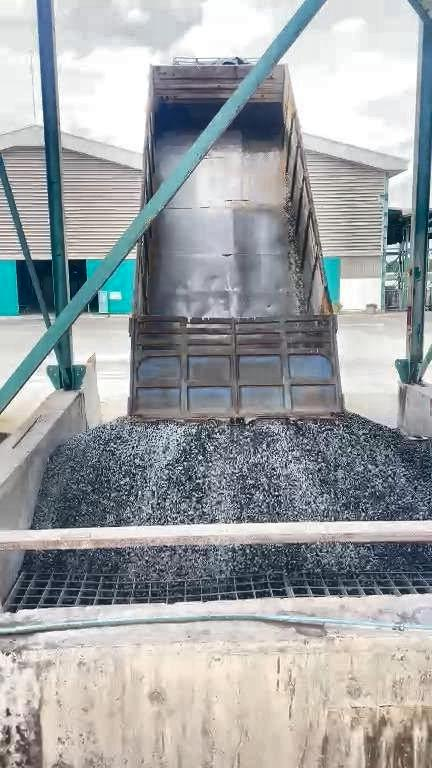gravel: (34, 414, 432, 526), (25, 545, 431, 578)
